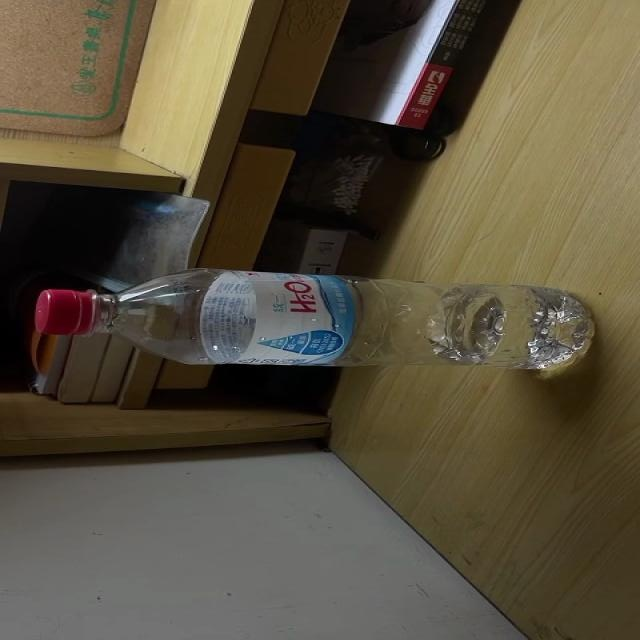Water: (34, 268, 596, 371)
